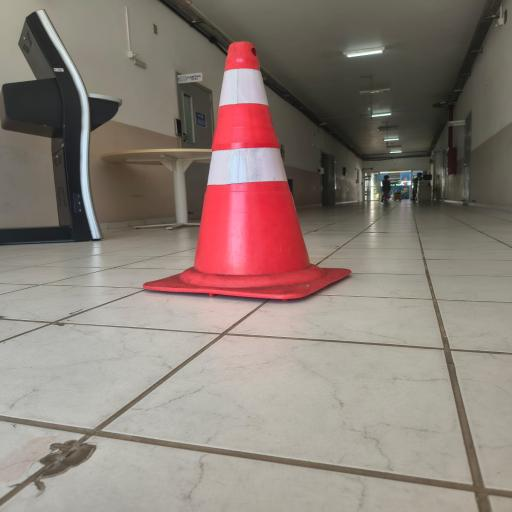cone: (195, 42, 323, 298)
